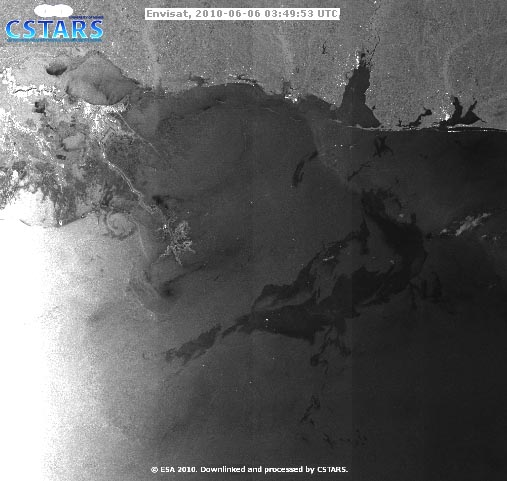anomaly: (189, 174, 457, 403)
